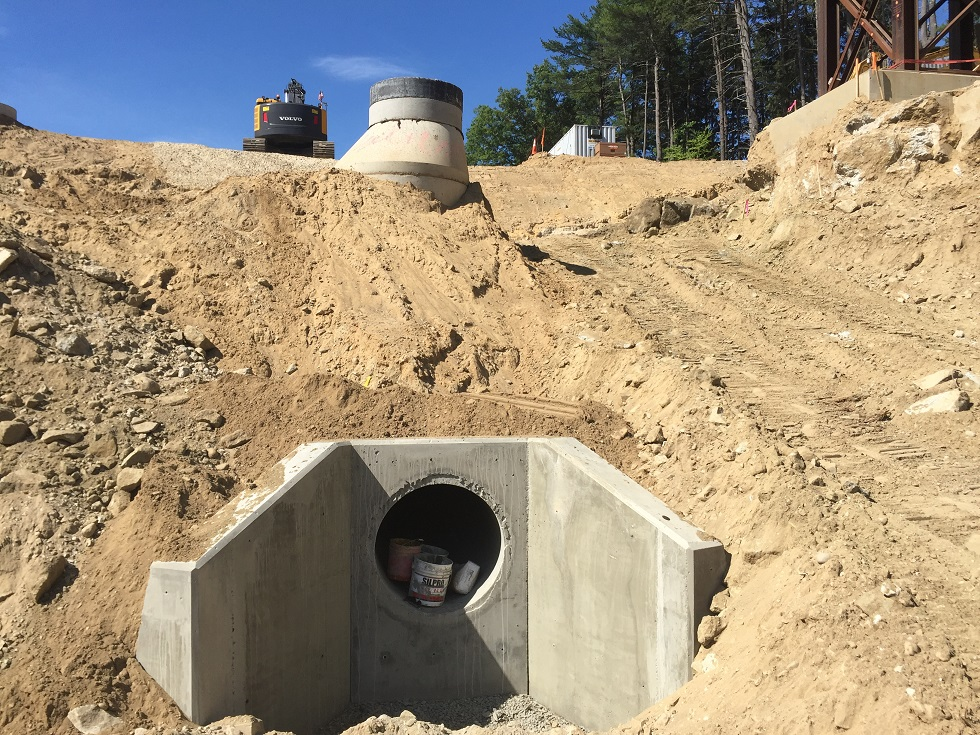Culvert: (375, 484, 501, 613)
Empty Outlet: (375, 484, 501, 613)
